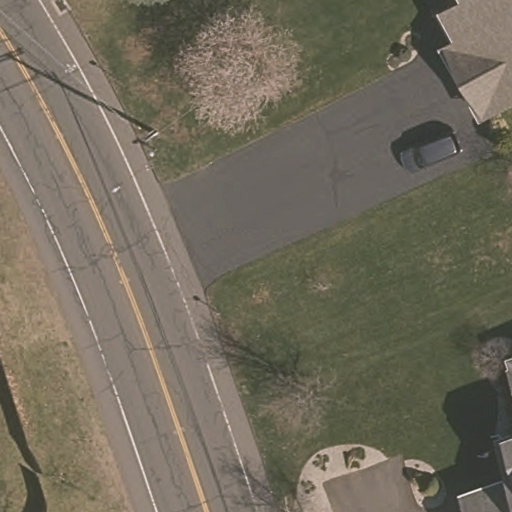DT: (126, 116, 168, 163)
